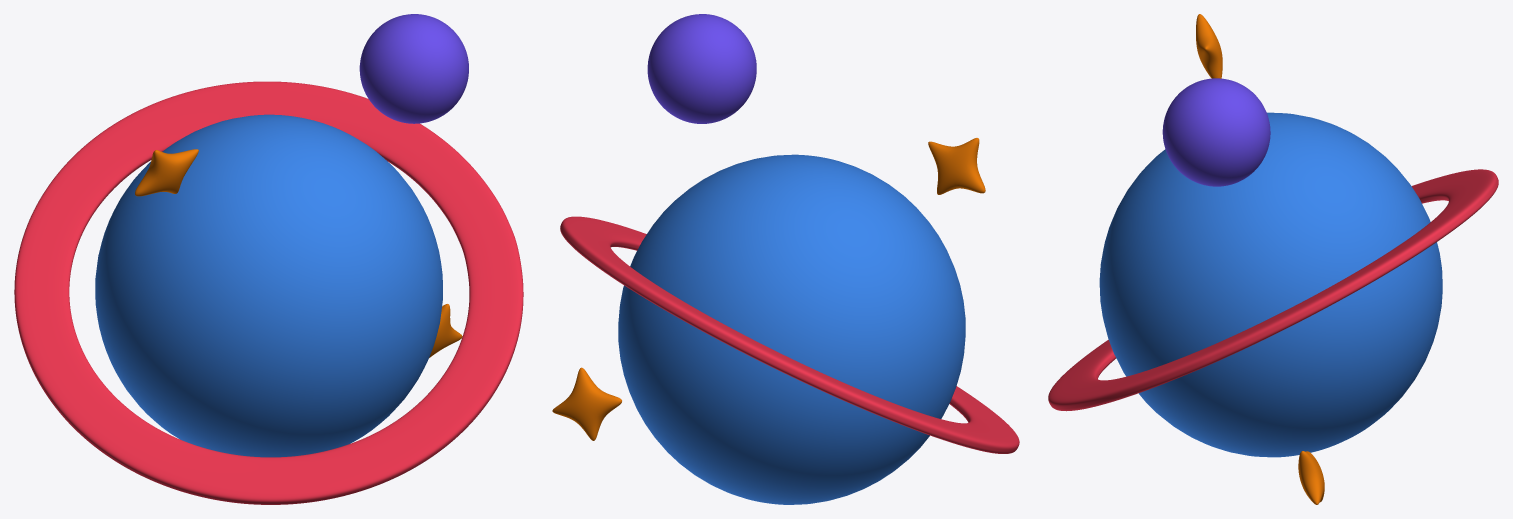
File: colt-planet-astronomy.glb
The picture shows the model from 3 angles, left to right: view 1: azimuth 30°, elevation 25°; view 2: azimuth 150°, elevation 25°; view 3: azimuth 270°, elevation 25°; orthographic projection.
Visible parts, largest first — view 1: Sphere.053, Sphere.054, Sphere.055, Cube.099, Cube.098; view 2: Sphere.053, Sphere.054, Sphere.055, Cube.099, Cube.098; view 3: Sphere.053, Sphere.054, Sphere.055, Cube.099, Cube.098.
Boxes of the visible parts, bbox=[...] form: Sphere.053: bbox=[95, 114, 442, 457]; Sphere.054: bbox=[14, 81, 523, 504]; Sphere.055: bbox=[359, 14, 468, 123]; Cube.099: bbox=[135, 149, 198, 196]; Cube.098: bbox=[429, 304, 462, 357]; Sphere.053: bbox=[618, 154, 965, 504]; Sphere.054: bbox=[560, 216, 1019, 453]; Sphere.055: bbox=[647, 14, 756, 123]; Cube.099: bbox=[928, 138, 985, 194]; Cube.098: bbox=[552, 367, 621, 440]; Sphere.053: bbox=[1099, 112, 1442, 457]; Sphere.054: bbox=[1048, 169, 1498, 411]; Sphere.055: bbox=[1162, 78, 1270, 186]; Cube.099: bbox=[1196, 14, 1222, 78]; Cube.098: bbox=[1298, 451, 1324, 504].
Bounding box in the file's own units: 6.1 × 5.71 × 5.63.
